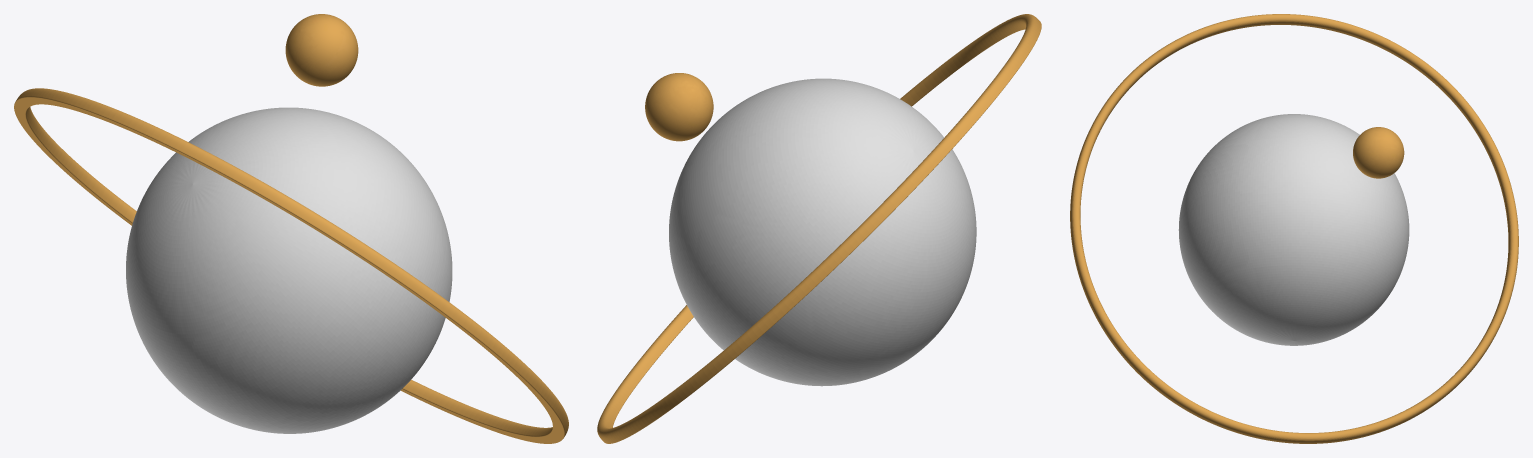
The model's file is Planet.glb.
3 renders of one model, left to right at view 1: azimuth 30°, elevation 25°; view 2: azimuth 150°, elevation 25°; view 3: azimuth 270°, elevation 25°, orthographic. The views are drawn at different scales.
Parts seen in each view (by area): view 1: Sphere, Ring, Sphere2; view 2: Sphere, Ring, Sphere2; view 3: Sphere, Ring, Sphere2.
Part boxes in pixels (x1=…): Sphere: x1=126, y1=107, x2=452, y2=433; Ring: x1=14, y1=88, x2=568, y2=443; Sphere2: x1=285, y1=14, x2=358, y2=86; Sphere: x1=669, y1=78, x2=976, y2=386; Ring: x1=597, y1=14, x2=1041, y2=443; Sphere2: x1=645, y1=73, x2=713, y2=141; Sphere: x1=1178, y1=114, x2=1409, y2=345; Ring: x1=1070, y1=14, x2=1518, y2=443; Sphere2: x1=1353, y1=127, x2=1404, y2=178.
Bounding box in the file's own units: 2.83 × 2.83 × 3.84.
Materials: 2 (1 with a texture image).
